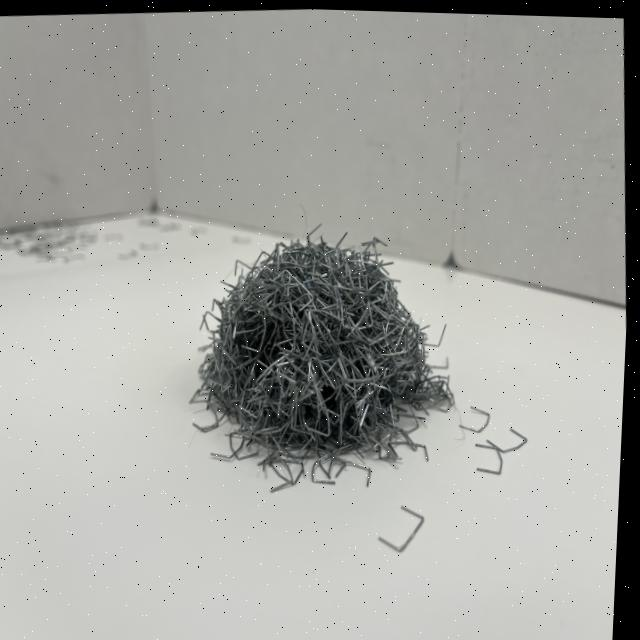staples: (175, 210, 467, 501)
